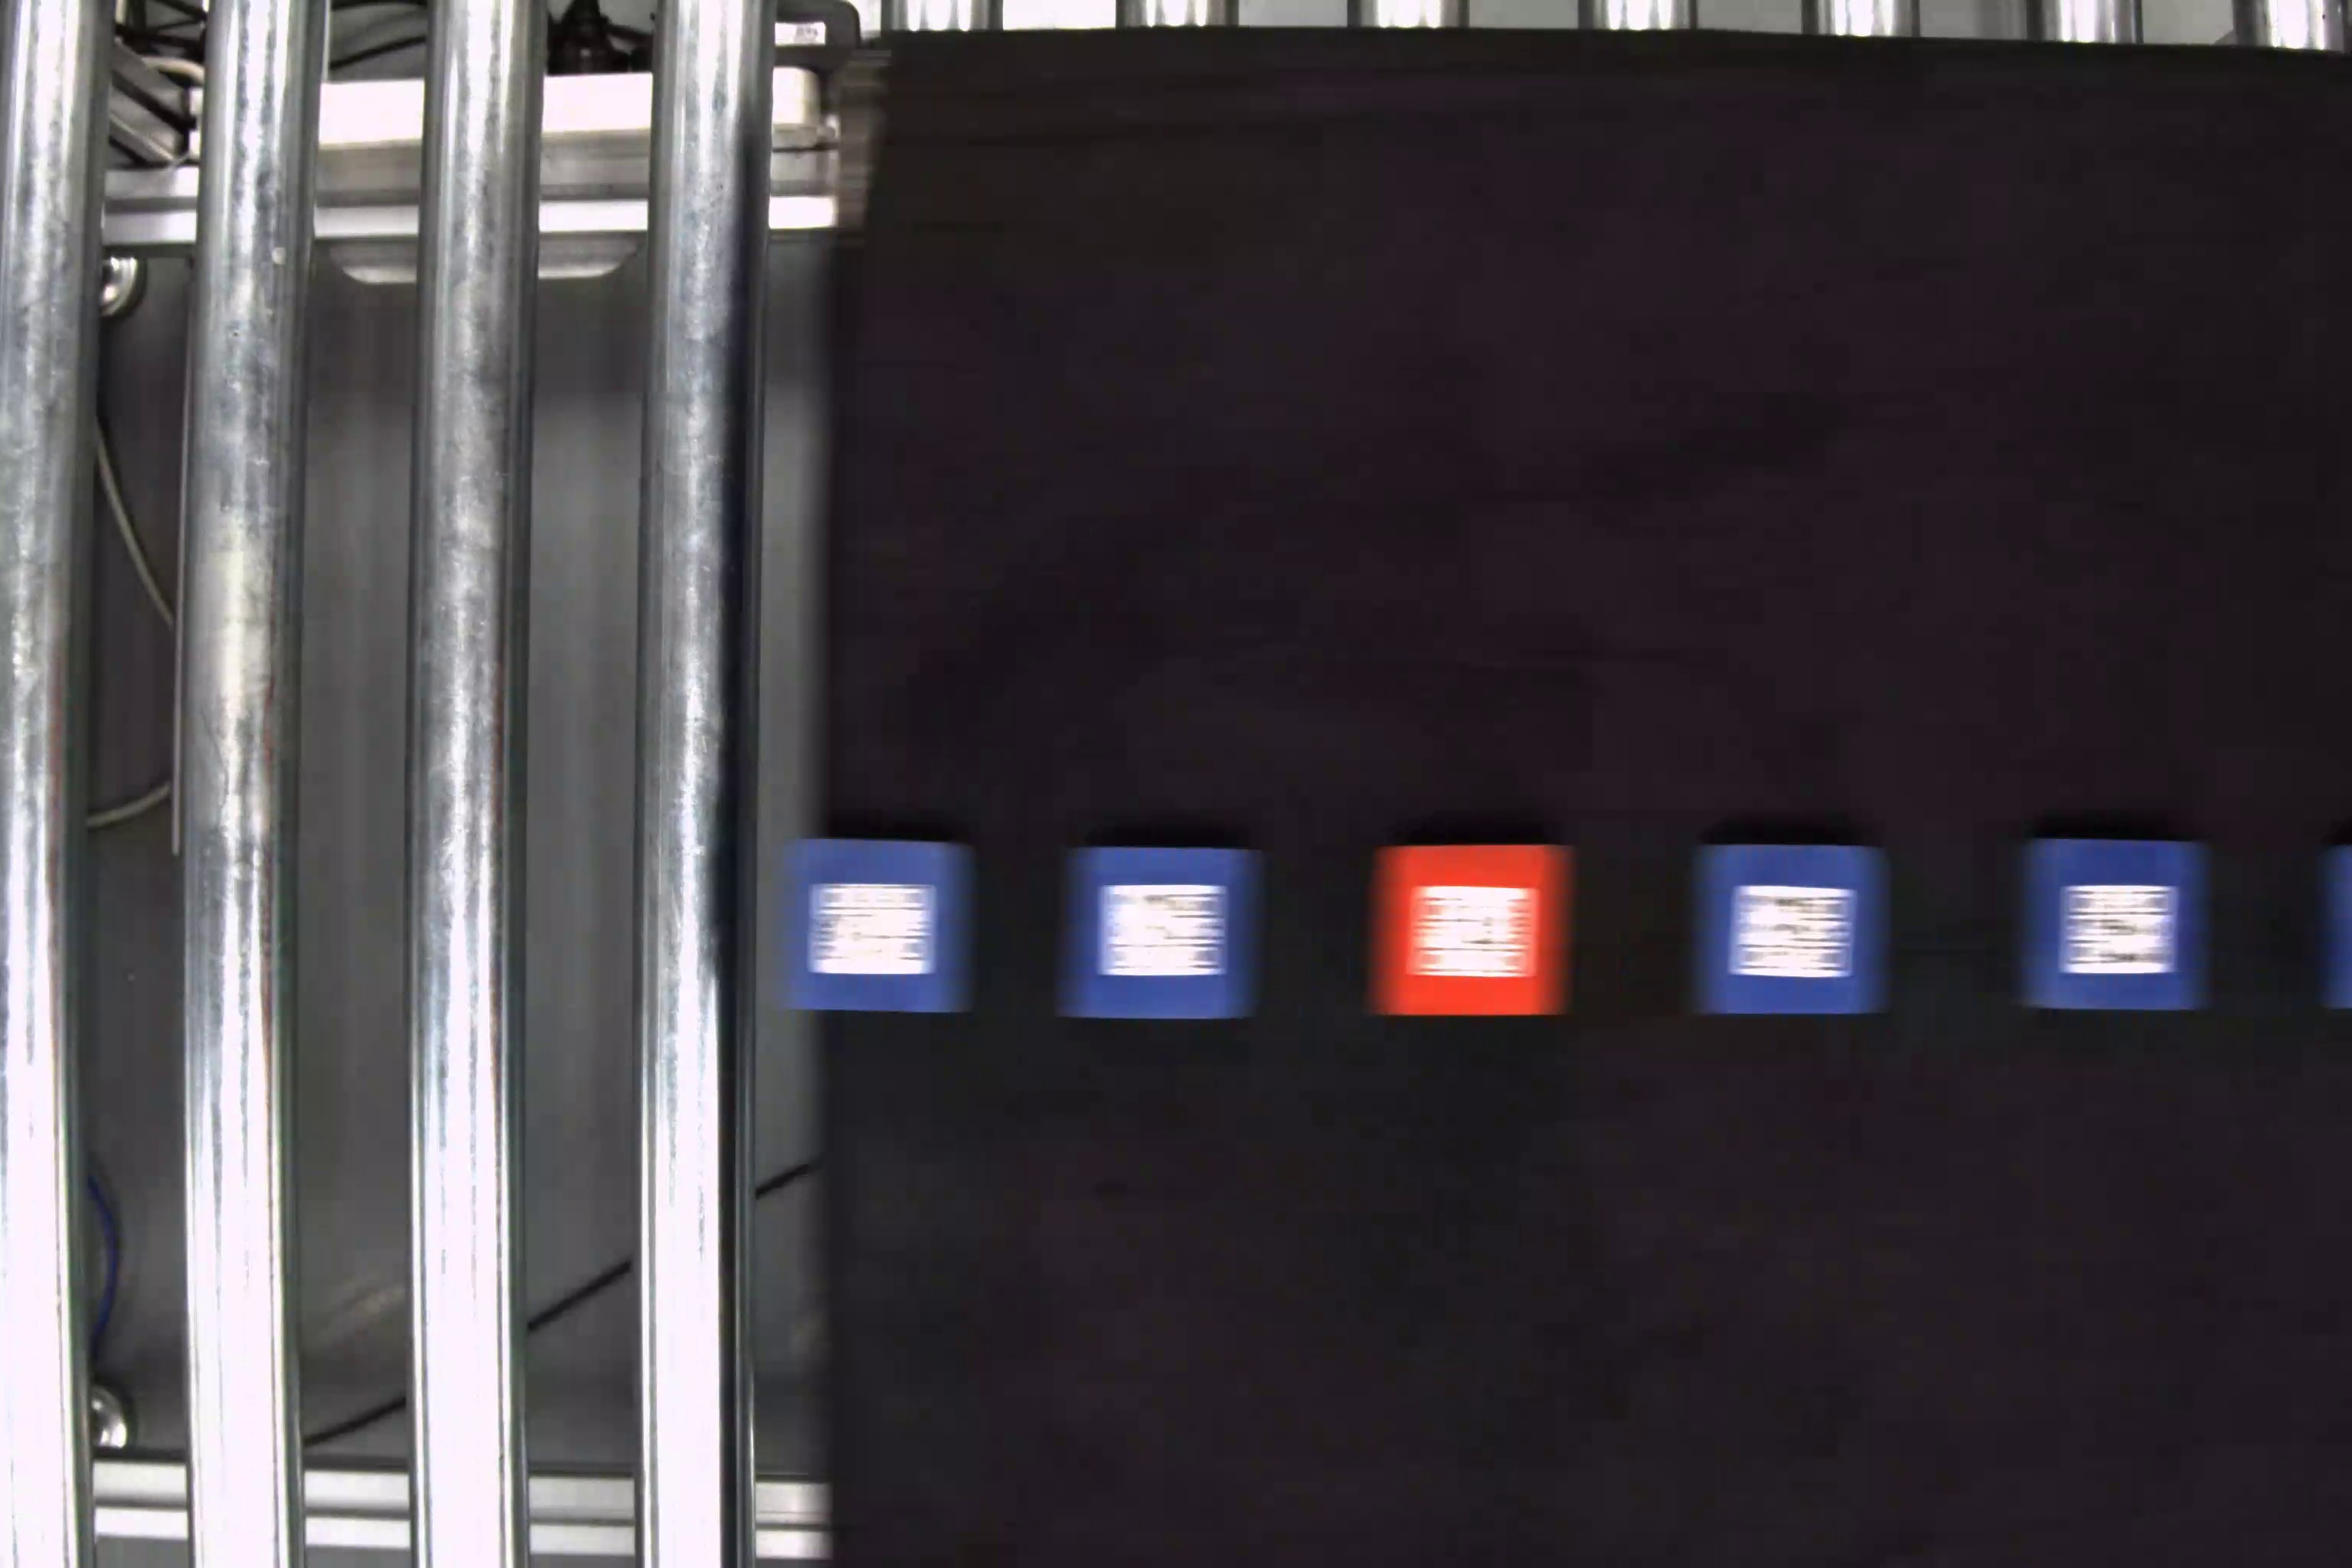wood: (1363, 840, 1578, 1022), (1694, 840, 1897, 1022), (1060, 847, 1270, 1022), (779, 833, 982, 1011), (2021, 836, 2212, 1015)
